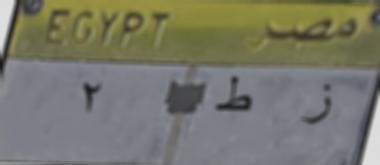2: (76, 74, 106, 118)
Taa: (210, 70, 253, 124)
zay: (295, 75, 334, 135)
